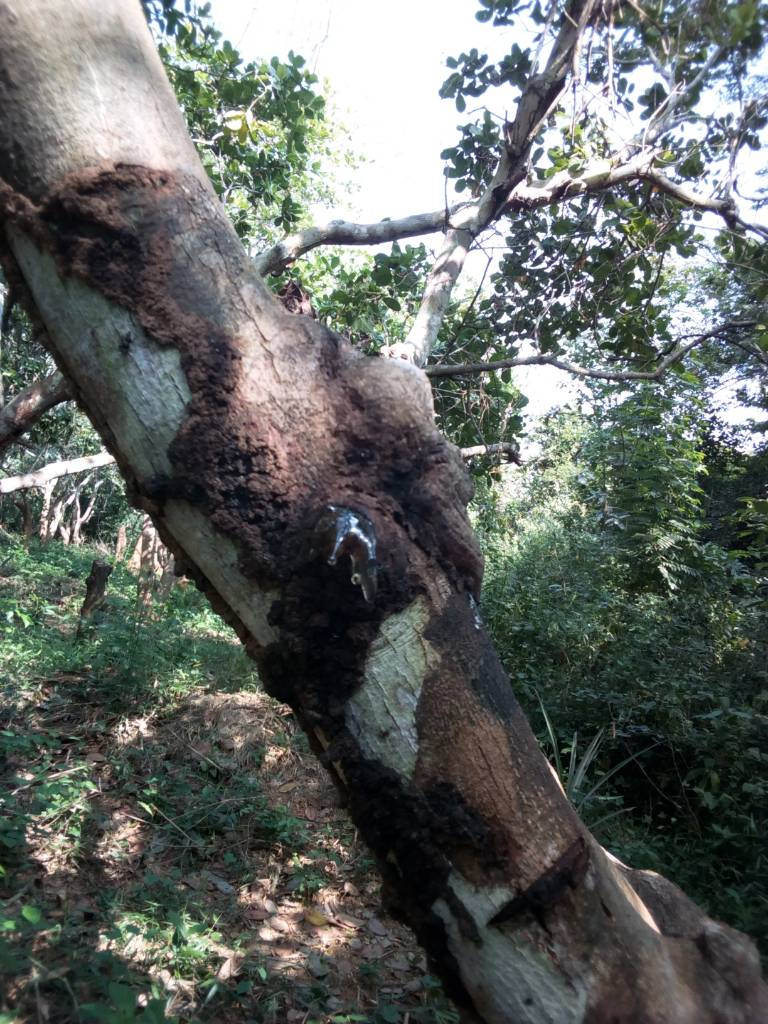Termites: (265, 597, 529, 922), (169, 341, 471, 557), (36, 157, 196, 324)
